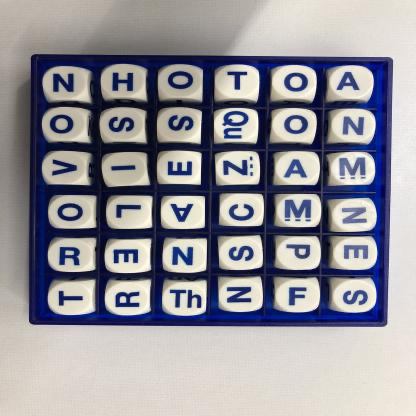a: (329, 67, 376, 100), (275, 152, 320, 186), (162, 198, 206, 230)
c: (220, 195, 264, 227)
e: (333, 237, 378, 271), (107, 240, 153, 273), (159, 152, 203, 185)
f: (275, 279, 321, 312)
h: (101, 66, 146, 99)
i: (104, 153, 148, 186)
l: (107, 197, 153, 229)
m: (329, 153, 376, 186), (277, 195, 321, 228)
n: (162, 239, 209, 273), (218, 279, 264, 312), (332, 200, 377, 233), (44, 68, 88, 101), (332, 111, 376, 142)
o: (271, 67, 317, 101), (50, 196, 95, 230), (159, 66, 203, 100), (43, 109, 87, 141), (272, 111, 316, 143)
p: (277, 237, 322, 271)
qu: (214, 110, 258, 141)
r: (51, 239, 97, 272), (106, 283, 150, 315)
s: (332, 279, 377, 313), (218, 237, 264, 270), (101, 108, 146, 140), (157, 109, 202, 141)
t: (215, 66, 261, 99), (48, 282, 94, 315)
th: (161, 282, 207, 315)
v: (43, 153, 87, 185)
z: (216, 152, 261, 186)
